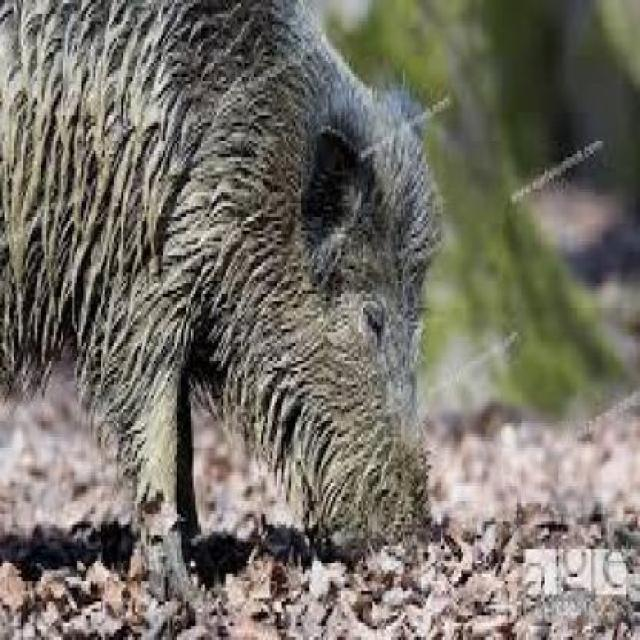wildboar: (0, 0, 454, 615)
